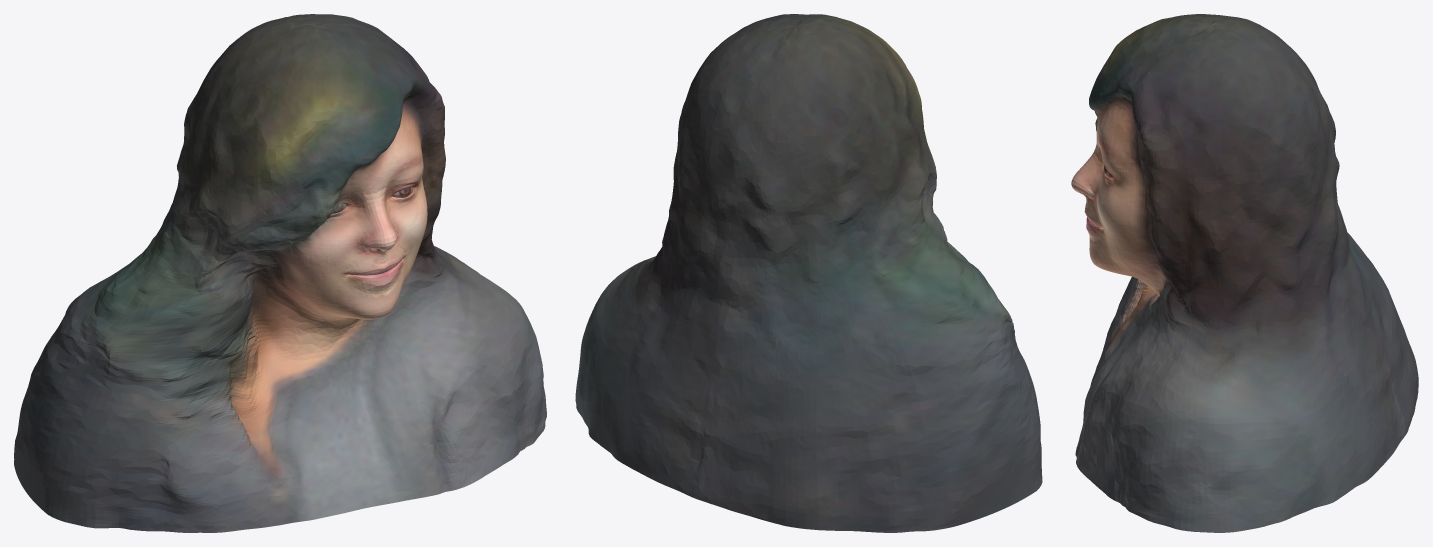
The model's file is lola.glb.
The picture shows the model from 3 angles, left to right: view 1: azimuth 30°, elevation 25°; view 2: azimuth 150°, elevation 25°; view 3: azimuth 270°, elevation 25°; orthographic projection. The views are drawn at different scales.
Visible parts, largest first — view 1: Node1; view 2: Node1; view 3: Node1.
Part boxes in pixels (x1=…): Node1: x1=14, y1=14, x2=546, y2=532; Node1: x1=575, y1=14, x2=1042, y2=532; Node1: x1=1071, y1=14, x2=1418, y2=532.
Bounding box in the file's own units: 0.4589 × 0.3907 × 0.3032.
Materials: 1 (1 with a texture image).
